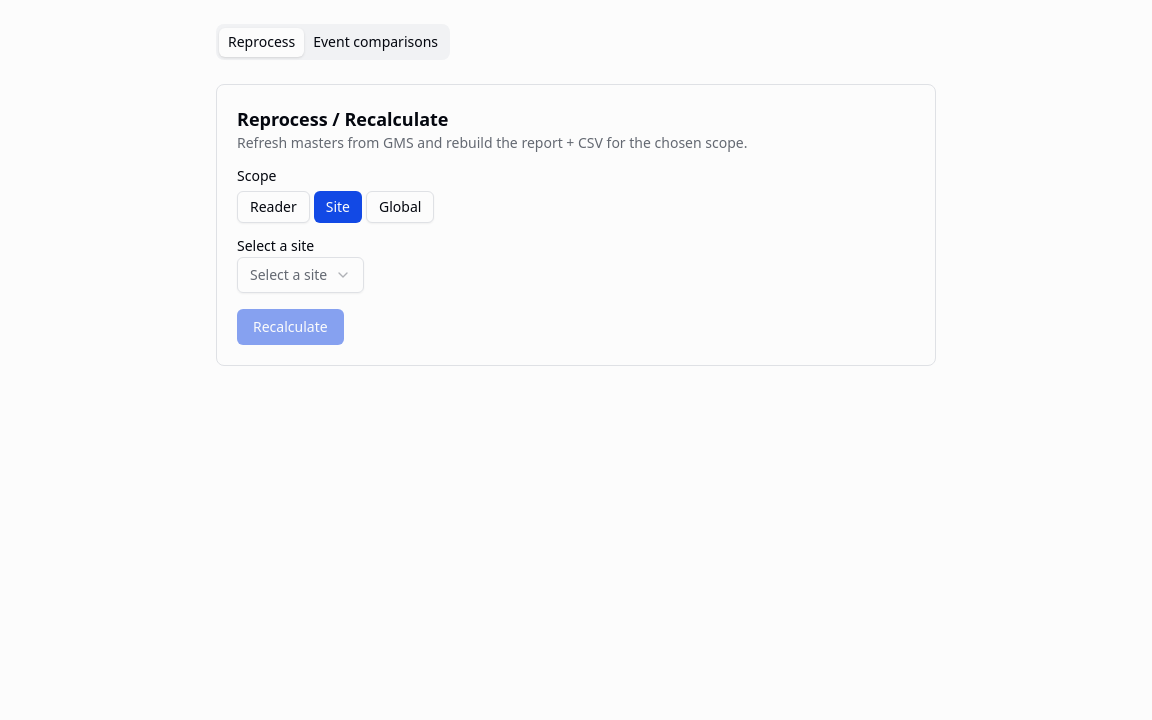
Scenario: SettingsPage › surfaces a failed run from the status poll
Click the button "Global".
click(400, 207)  # box 366,191 -> 434,223
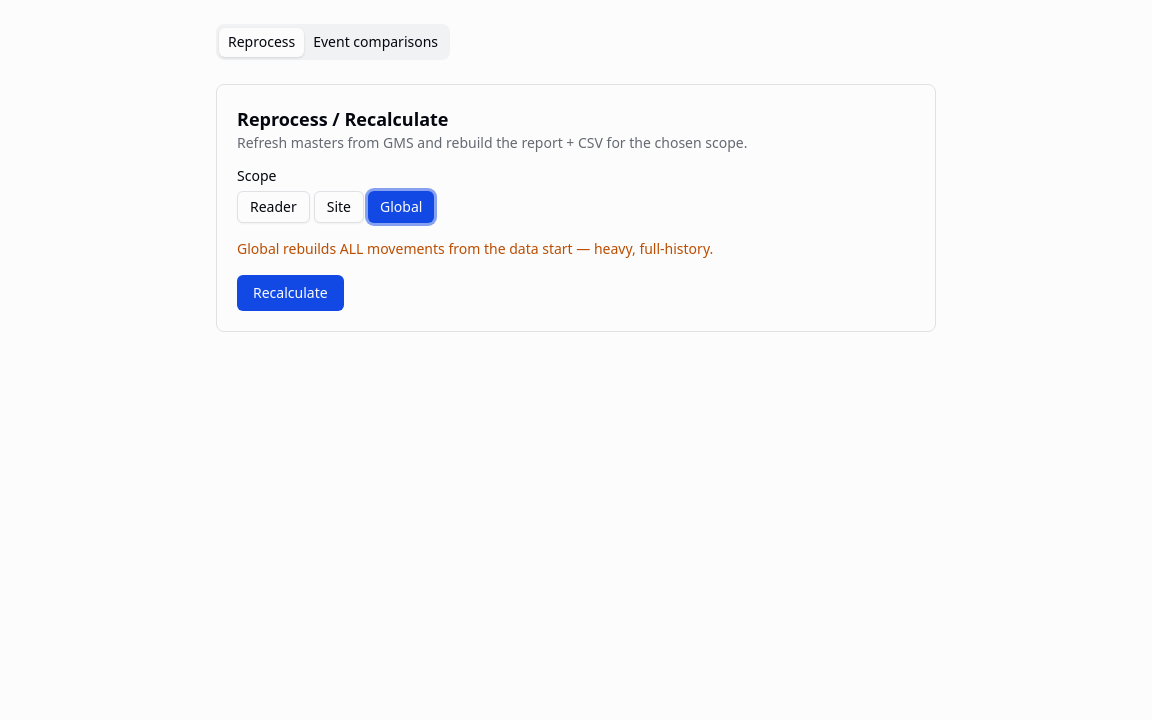
Click the button "Recalculate".
click(290, 293)  # box 237,275 -> 344,311
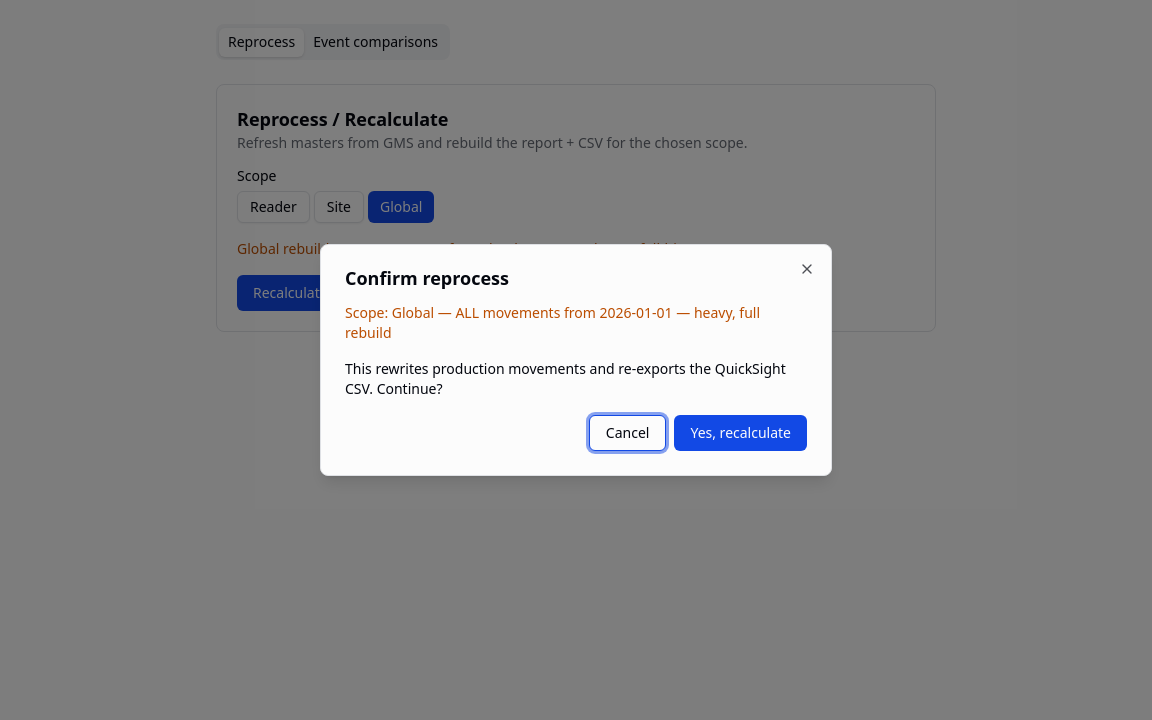
Click the button "Yes, recalculate".
click(741, 433)  # box 674,415 -> 807,451
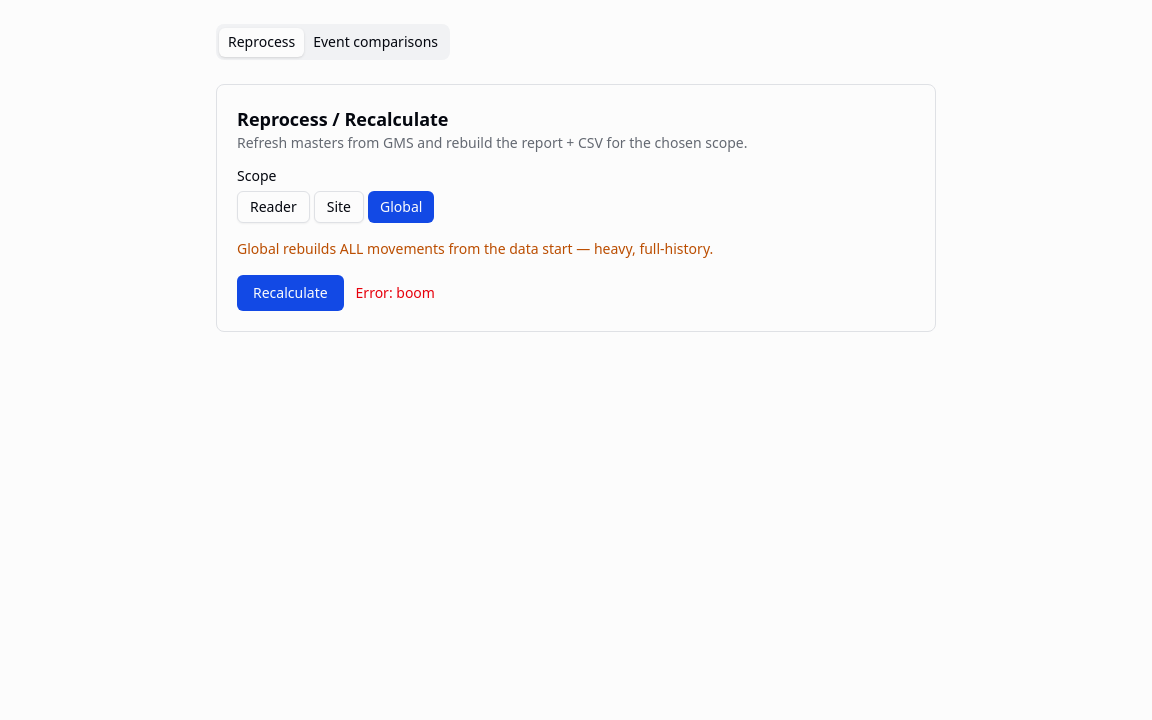
Now the text "Error: boom" is shown, box 356,283 -> 435,303
